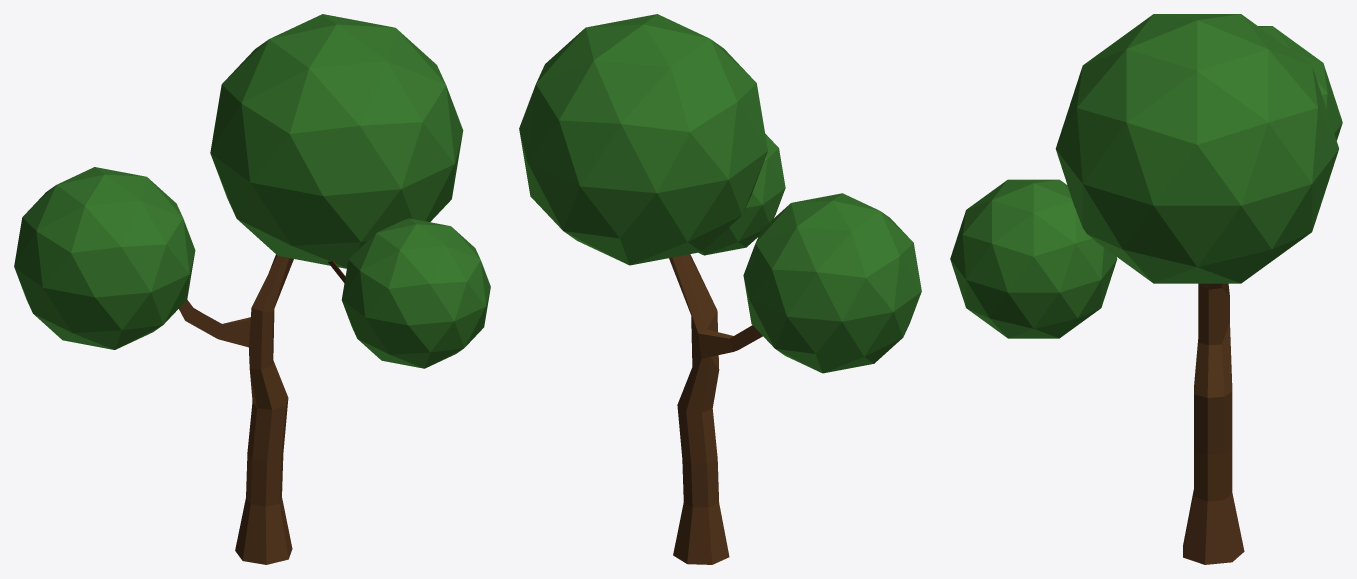
File: Tree.fbx
The picture shows the model from 3 angles, left to right: view 1: azimuth 30°, elevation 25°; view 2: azimuth 150°, elevation 25°; view 3: azimuth 270°, elevation 25°; orthographic projection. The views are drawn at different scales.
Visible parts, largest first — view 1: Icosphere, Icosphere.002, Icosphere.001, Cylinder; view 2: Icosphere, Icosphere.002, Cylinder, Icosphere.001; view 3: Icosphere, Icosphere.001, Cylinder, Icosphere.002.
Boxes of the visible parts, <box> form: Icosphere: <box>210,14,463,268</box>; Icosphere.002: <box>14,167,195,349</box>; Icosphere.001: <box>341,218,490,368</box>; Cylinder: <box>179,254,345,564</box>; Icosphere: <box>519,14,767,265</box>; Icosphere.002: <box>743,193,921,373</box>; Cylinder: <box>669,254,762,564</box>; Icosphere.001: <box>698,134,785,255</box>; Icosphere: <box>1055,14,1338,283</box>; Icosphere.001: <box>950,179,1117,338</box>; Cylinder: <box>1183,283,1244,564</box>; Icosphere.002: <box>1258,26,1342,140</box>.
Size of the model in its own units: 1544 by 1931 by 1213.
